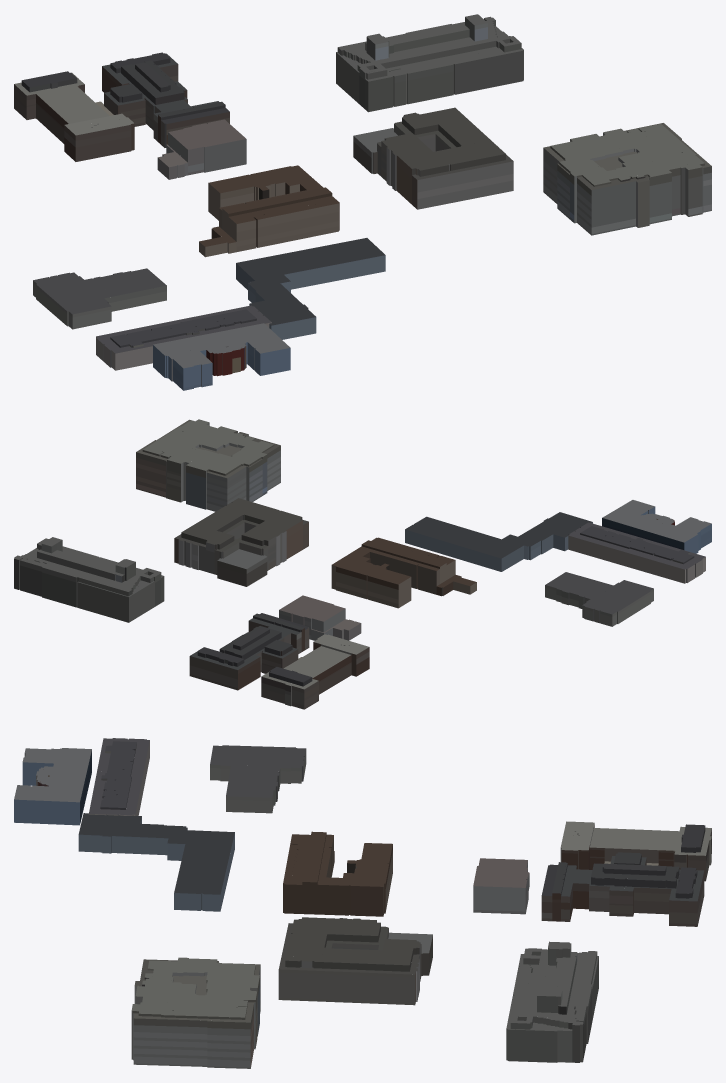
The model's file is t_-4_-1.far.glb.
3 views of the same model, one above another, from view 1: azimuth 30°, elevation 25°; view 2: azimuth 150°, elevation 25°; view 3: azimuth 270°, elevation 25° (orthographic). The views are drawn at different scales.
Visible parts, largest first — view 1: opaque; view 2: opaque; view 3: opaque.
Boxes of the visible parts, box(x1,y1,x2,y2) form: opaque: box(14, 14, 711, 390); opaque: box(14, 419, 711, 709); opaque: box(14, 738, 711, 1068).
Bounding box in the file's own units: 246 × 19.92 × 232.
1 material, 1 textured.
